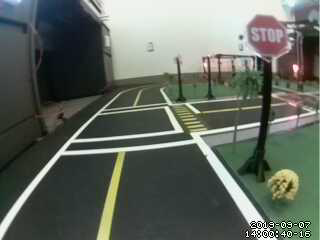Stop_Sign: (243, 12, 291, 66)
